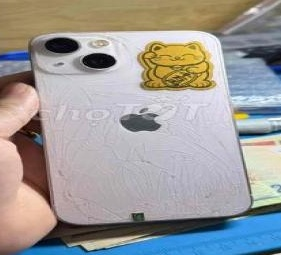physical_damage: (163, 153, 240, 214), (102, 152, 168, 220), (149, 96, 223, 156), (36, 78, 99, 143), (100, 78, 159, 145), (48, 151, 105, 220), (78, 33, 159, 55)
